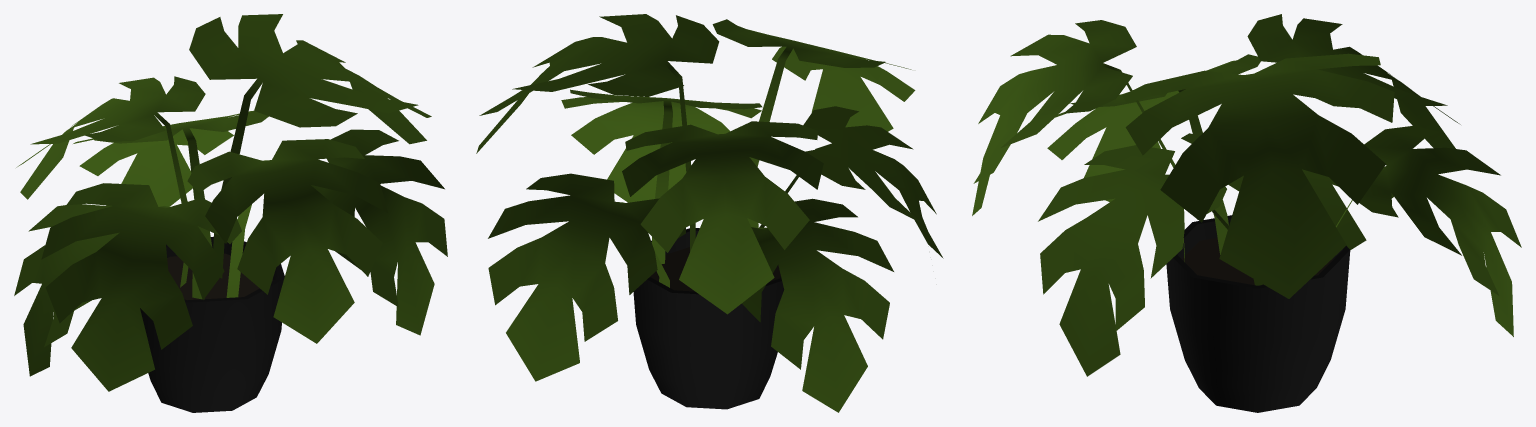
Rendered from houseplant.obj.
3 renders of one model, left to right at view 1: azimuth 30°, elevation 25°; view 2: azimuth 150°, elevation 25°; view 3: azimuth 270°, elevation 25°, orthographic. The views are drawn at different scales.
Visible parts, largest first — view 1: obj3, obj1, obj2; view 2: obj3, obj1, obj2; view 3: obj3, obj1, obj2.
Boxes of the visible parts, <box> form: obj3: <box>14,14,447,391</box>; obj1: <box>140,236,284,412</box>; obj2: <box>167,253,273,299</box>; obj3: <box>476,14,943,412</box>; obj1: <box>633,228,784,409</box>; obj2: <box>650,247,780,291</box>; obj3: <box>972,14,1521,376</box>; obj1: <box>1166,215,1350,412</box>; obj2: <box>1182,237,1333,285</box>.
Size of the model in its own units: 1.17 by 0.8819 by 1.22.
